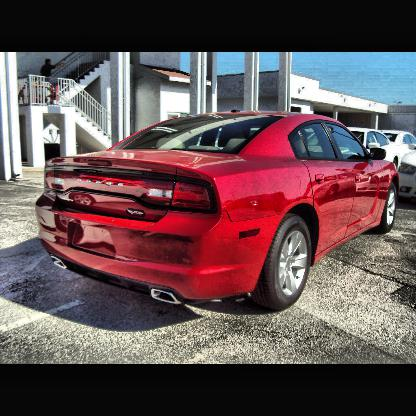Dodge Charger Sedan 2012: (33, 110, 401, 312)
